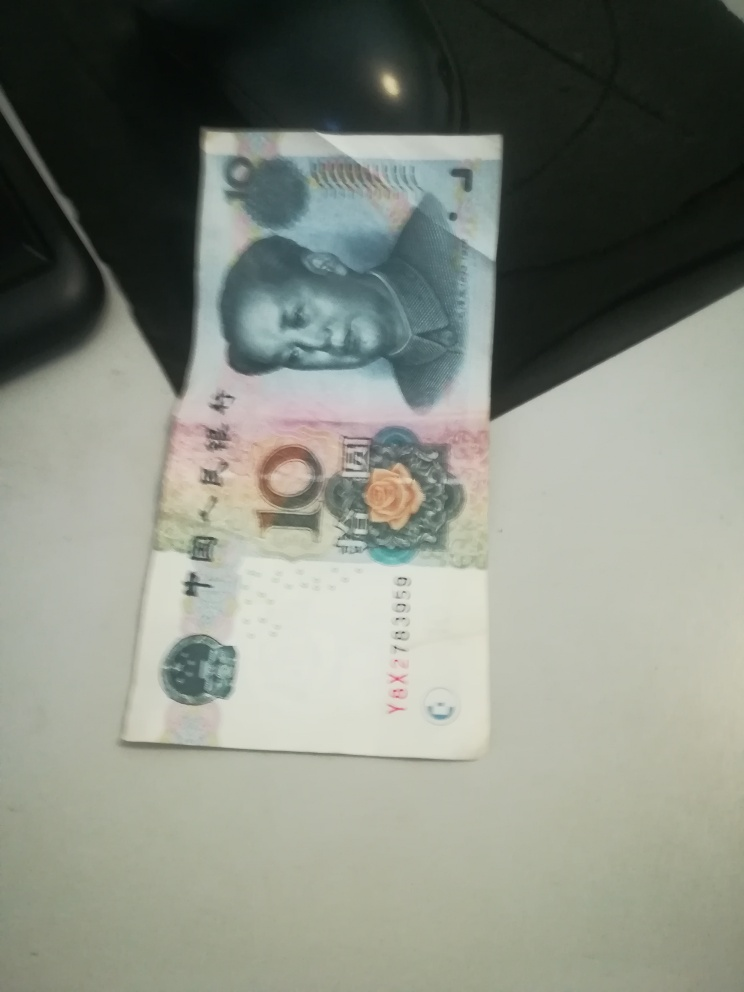rmb: (116, 112, 513, 764)
